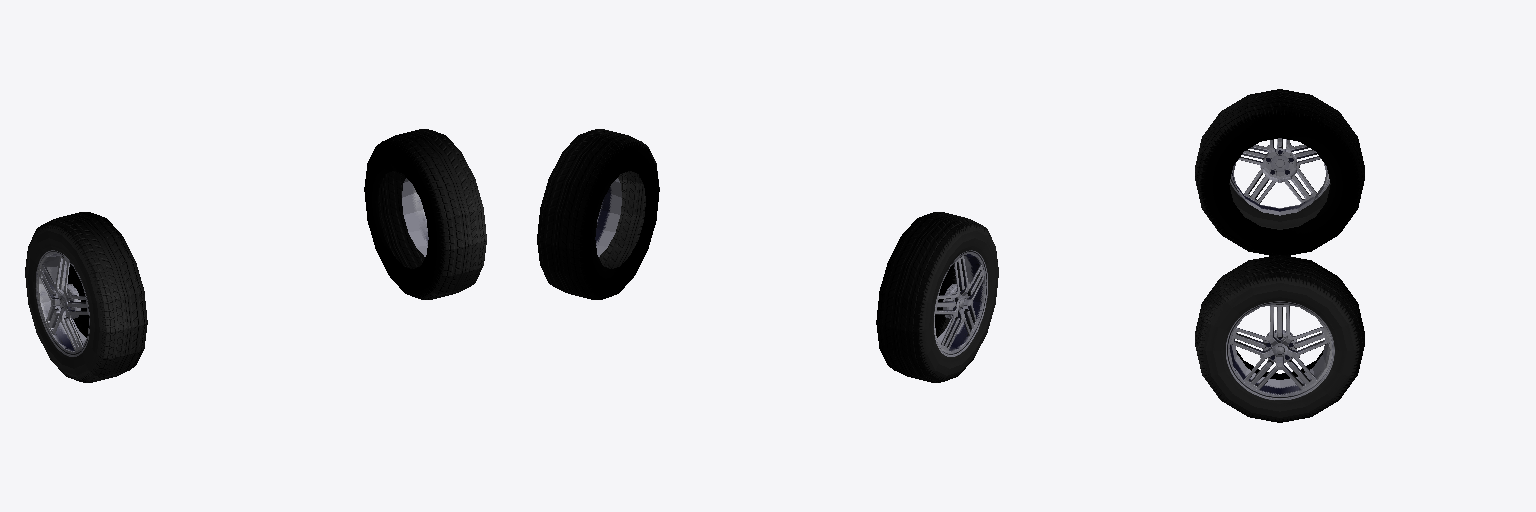
The picture shows the model from 3 angles: view 1: azimuth 30°, elevation 25°; view 2: azimuth 150°, elevation 25°; view 3: azimuth 270°, elevation 25°; orthographic projection.
Visible parts, largest first — view 1: wheels_n_acc.001_wheels_n_acc.002; view 2: wheels_n_acc.001_wheels_n_acc.002; view 3: wheels_n_acc.001_wheels_n_acc.002.
Part boxes in pixels (left/top/right/bottom): wheels_n_acc.001_wheels_n_acc.002: left=25, top=129, right=486, bottom=382; wheels_n_acc.001_wheels_n_acc.002: left=537, top=129, right=998, bottom=382; wheels_n_acc.001_wheels_n_acc.002: left=1195, top=89, right=1364, bottom=422.
Size of the model in its own units: 5.65 by 2.12 by 2.12.
1 materials, 1 textured.